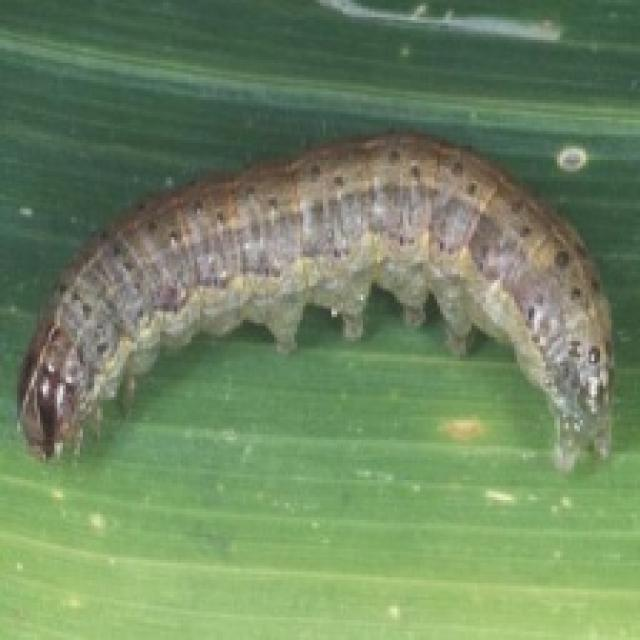armyworm: (13, 118, 630, 501)
